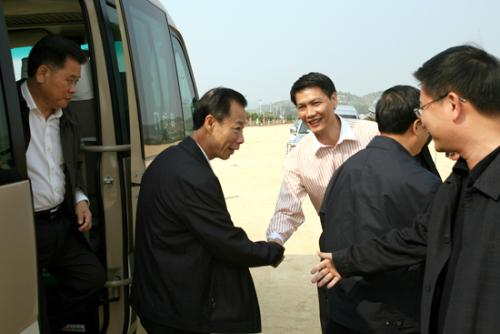person: (129, 86, 286, 334), (310, 84, 443, 334), (265, 70, 381, 333), (6, 33, 107, 334), (413, 43, 500, 333)
